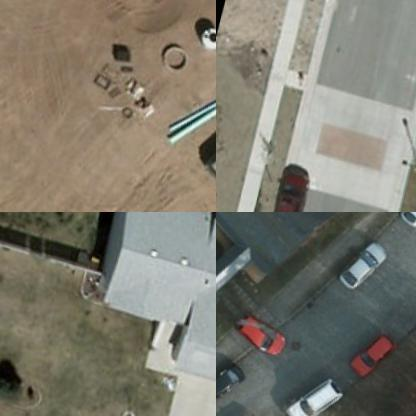car: (352, 314, 403, 377), (288, 364, 345, 415), (346, 224, 390, 288), (238, 305, 294, 350), (272, 160, 316, 211), (216, 347, 252, 397)
